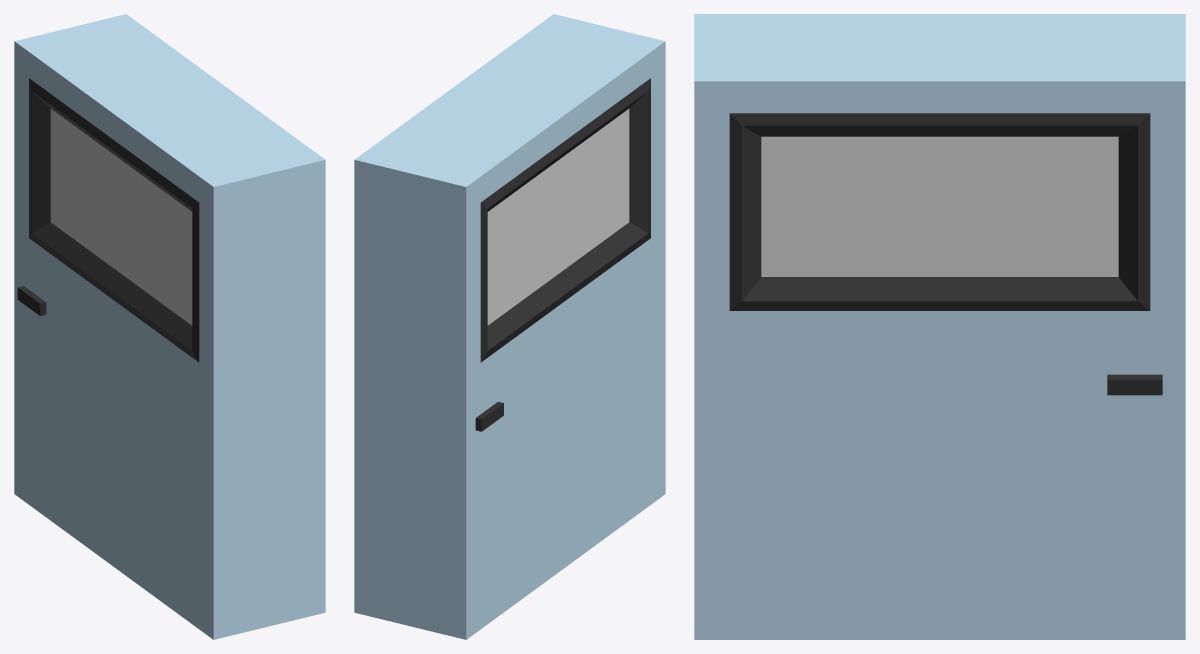
Rendered from DoorSingle.fbx.
The picture shows the model from 3 angles, left to right: view 1: azimuth 30°, elevation 25°; view 2: azimuth 150°, elevation 25°; view 3: azimuth 270°, elevation 25°; orthographic projection. The views are drawn at different scales.
Parts seen in each view (by area): view 1: DoorSingle; view 2: DoorSingle; view 3: DoorSingle.
Part boxes in pixels (<box>): DoorSingle: <box>14,14,325,639</box>; DoorSingle: <box>354,14,665,639</box>; DoorSingle: <box>694,14,1185,639</box>.
Bounding box in the file's own units: 75.39 × 257 × 205.
